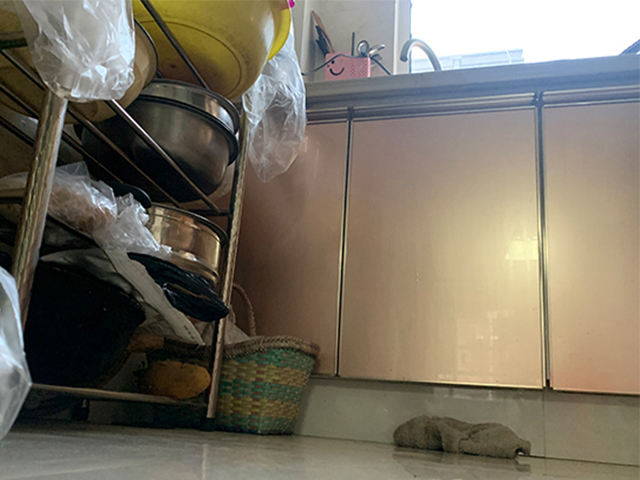cabinet: (257, 52, 640, 467)
